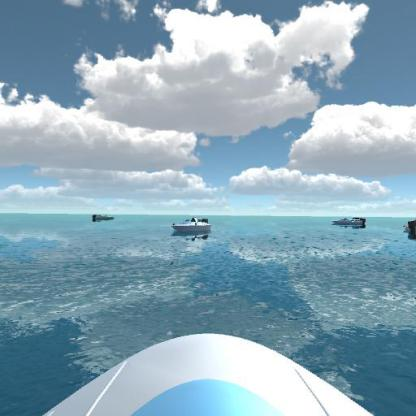usv0: (90, 211, 114, 226)
usv1: (168, 213, 216, 242), (329, 211, 368, 233), (401, 213, 415, 240)
